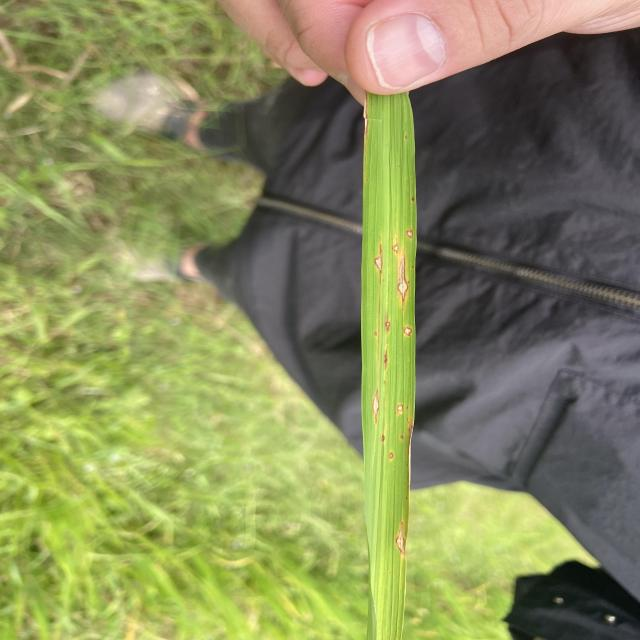Dao on: (396, 255, 410, 311), (395, 523, 406, 557), (373, 243, 382, 283), (371, 390, 380, 425), (402, 326, 413, 337), (405, 228, 413, 240), (392, 243, 399, 254), (396, 403, 404, 411), (385, 321, 391, 331), (389, 453, 394, 459), (381, 435, 385, 441)
